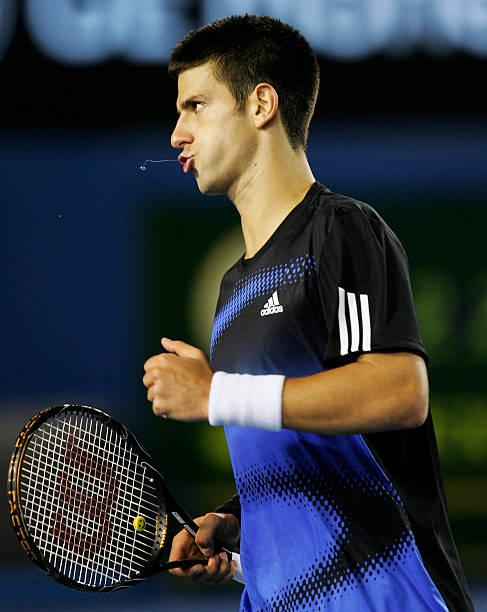Spitting: (60, 0, 345, 247)
